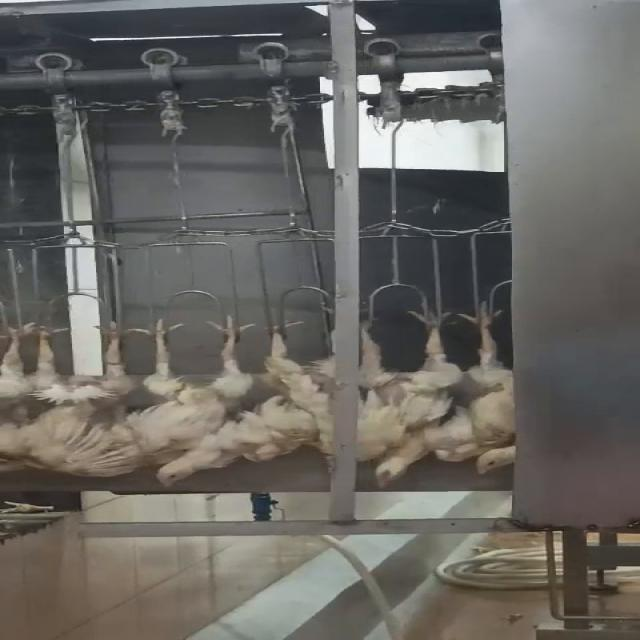chicken: (128, 312, 261, 489), (359, 301, 455, 491), (43, 312, 133, 481), (245, 299, 331, 466), (459, 300, 512, 477), (0, 319, 56, 474)
